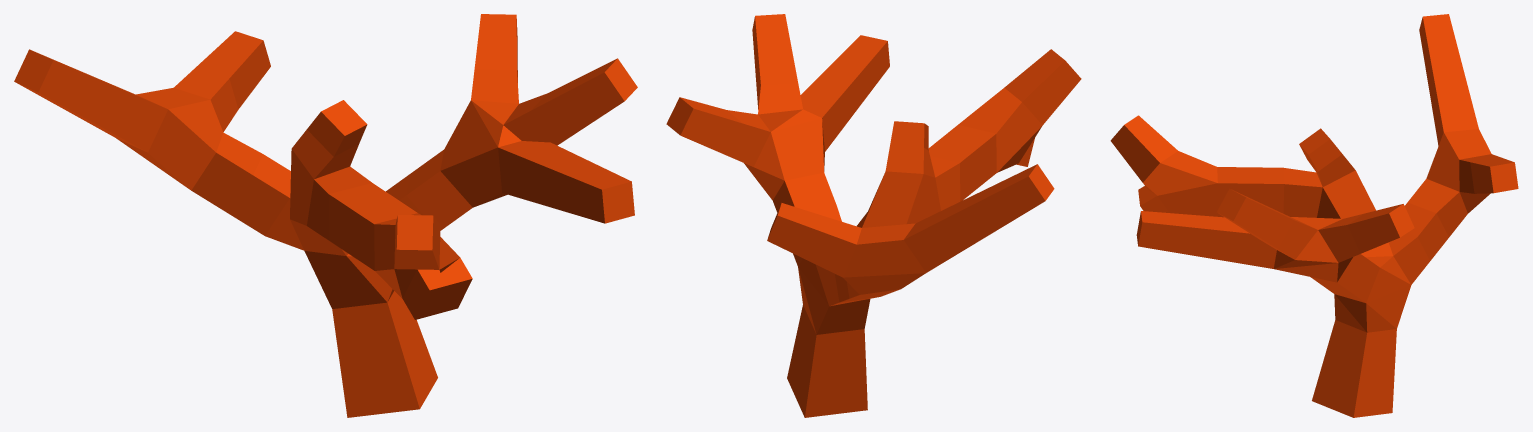
File: pustedrzewov1.fbx
The picture shows the model from 3 angles, left to right: view 1: azimuth 30°, elevation 25°; view 2: azimuth 150°, elevation 25°; view 3: azimuth 270°, elevation 25°; orthographic projection. The views are drawn at different scales.
Visible parts, largest first — view 1: Kostka; view 2: Kostka; view 3: Kostka.
Boxes of the visible parts, x1,y1,x2,y2 form: Kostka: (14, 14, 637, 417); Kostka: (666, 14, 1081, 417); Kostka: (1110, 14, 1518, 417).
Size of the model in its own units: 595 by 450 by 576.
